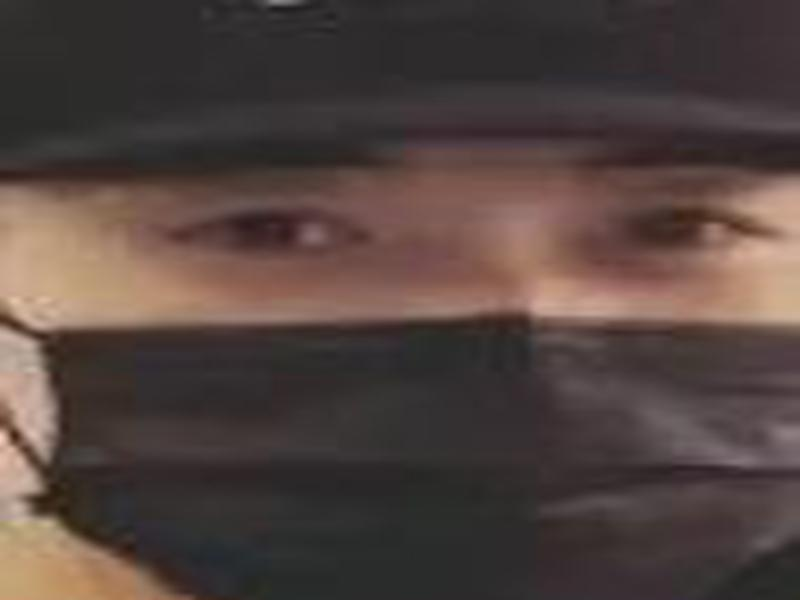with_mask: (4, 152, 800, 600)
